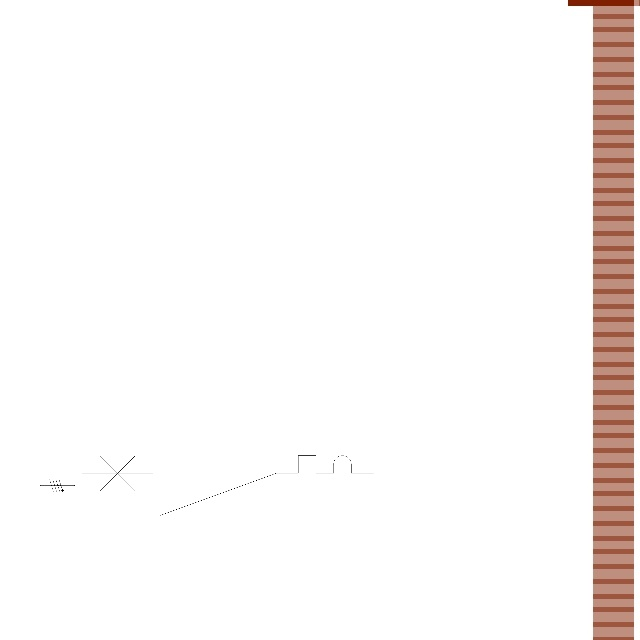interruptor_termomagnetico: (74, 448, 380, 523)
